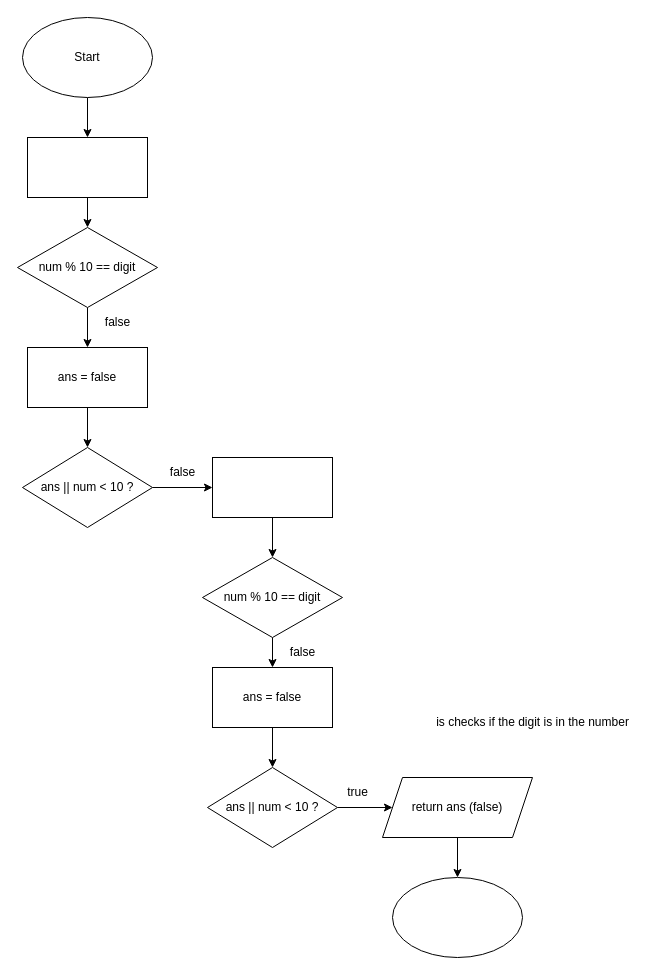
Image size: 660x975. Some labels were removed from this diagram. Here are the shapes that lost their labels. From the top down, the centre of each, then its label:
At point 87,167: "is(num: 16, digit: 2)".
At point 272,487: "is(num: 1, digit: 2)".
At point 457,917: "End".
